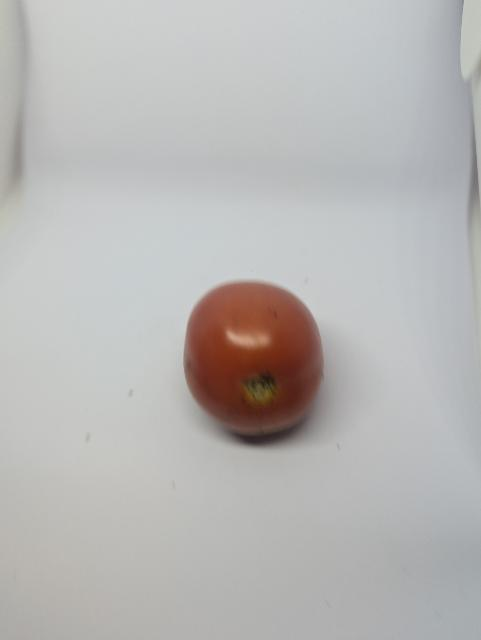red: (179, 275, 329, 442)
